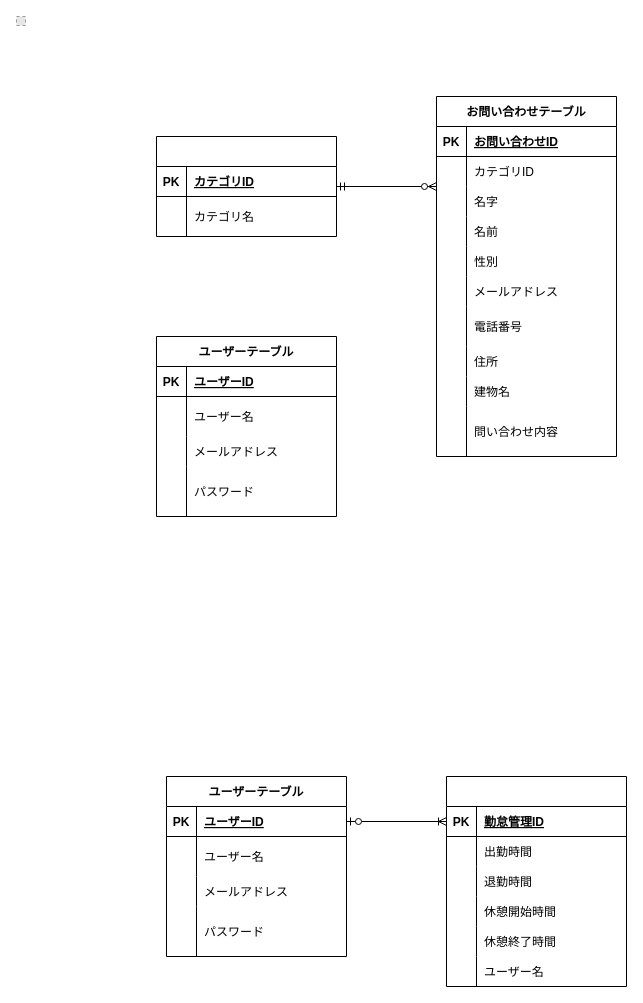
Some shapes in this 643 by 1003 pixel diagram are drawn without their labels. Grey dashed boxes stand in for pictures. The shapes that lost their labels are listed below. From the top down, each one's box as (x1, y1, x2, y2) in pixels, then its label:
(156, 136, 336, 236): カテゴリテーブル
(446, 776, 626, 986): 勤怠管理テーブル
